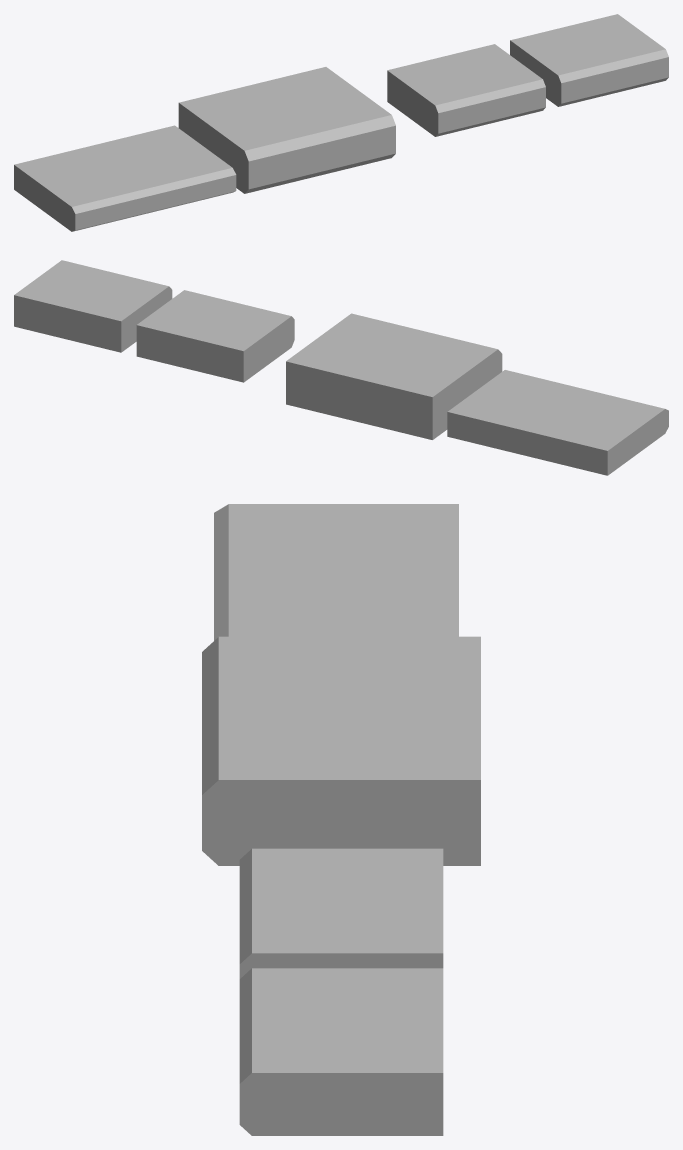
Rendered from Books.fbx.
3 renders of one model, top to bottom at view 1: azimuth 30°, elevation 25°; view 2: azimuth 150°, elevation 25°; view 3: azimuth 270°, elevation 25°, orthographic. The views are drawn at different scales.
Parts seen in each view (by area): view 1: Book_01, Book_04, Book_02, Book_03; view 2: Book_01, Book_04, Book_02, Book_03; view 3: Book_01, Book_03, Book_04, Book_02.
Part boxes in pixels (x1=…): Book_01: x1=178, y1=67, x2=395, y2=193; Book_04: x1=14, y1=125, x2=236, y2=231; Book_02: x1=387, y1=44, x2=545, y2=136; Book_03: x1=510, y1=14, x2=668, y2=106; Book_01: x1=286, y1=313, x2=502, y2=439; Book_04: x1=447, y1=370, x2=668, y2=475; Book_02: x1=136, y1=290, x2=294, y2=382; Book_03: x1=14, y1=260, x2=172, y2=352; Book_01: x1=202, y1=636, x2=480, y2=865; Book_03: x1=239, y1=968, x2=443, y2=1135; Book_04: x1=214, y1=504, x2=458, y2=640; Book_02: x1=239, y1=848, x2=443, y2=978.
Bounding box in the file's own units: 144 × 9.92 × 29.15.
